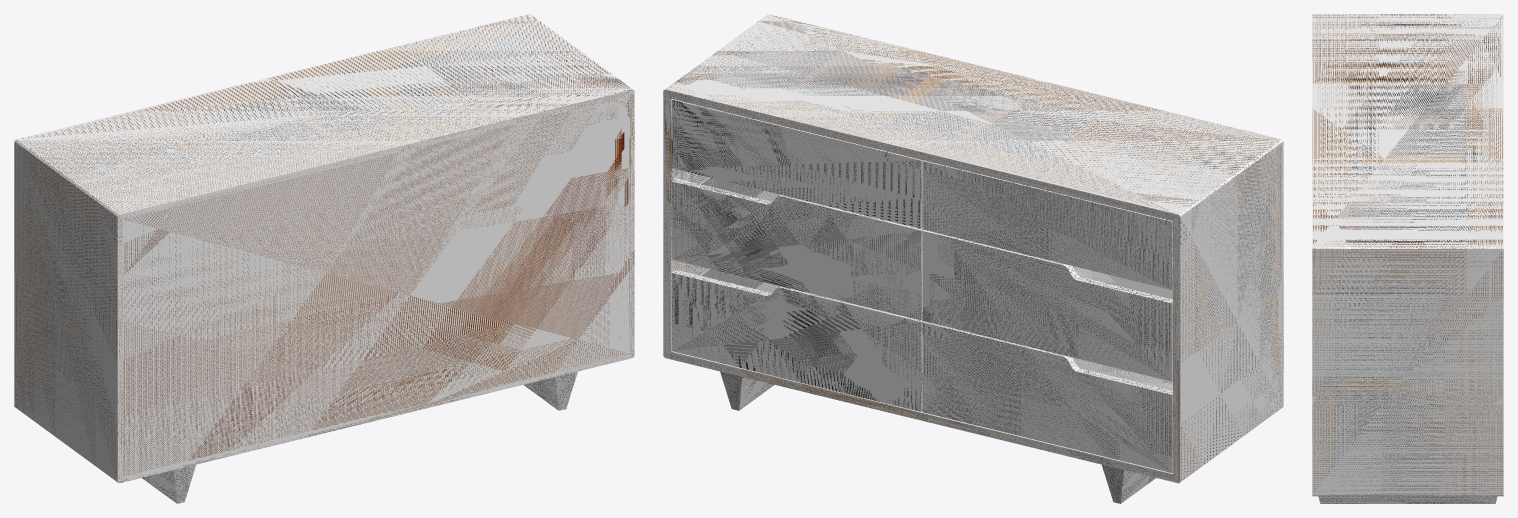
The picture shows the model from 3 angles, left to right: view 1: azimuth 30°, elevation 25°; view 2: azimuth 150°, elevation 25°; view 3: azimuth 270°, elevation 25°; orthographic projection. The views are drawn at different scales.
Visible parts, largest first — view 1: mesh9_mesh9-geometry, mesh12_mesh12-geometry, mesh10_mesh10-geometry, mesh16_mesh16-geometry, mesh13_mesh13-geometry, mesh11_mesh11-geometry; view 2: mesh12_mesh12-geometry, mesh8_mesh8-geometry, mesh2_mesh2-geometry, mesh10_mesh10-geometry, mesh3_mesh3-geometry, mesh5_mesh5-geometry, mesh16_mesh16-geometry, mesh11_mesh11-geometry, mesh13_mesh13-geometry, mesh1_mesh1-geometry, mesh7_mesh7-geometry; view 3: mesh11_mesh11-geometry, mesh12_mesh12-geometry, mesh13_mesh13-geometry, mesh16_mesh16-geometry.
Boxes of the visible parts, left/top/right/bottom form: mesh9_mesh9-geometry: left=123, top=96, right=628, bottom=476; mesh12_mesh12-geometry: left=15, top=14, right=633, bottom=219; mesh10_mesh10-geometry: left=14, top=140, right=122, bottom=482; mesh16_mesh16-geometry: left=118, top=353, right=633, bottom=483; mesh13_mesh13-geometry: left=142, top=371, right=577, bottom=503; mesh11_mesh11-geometry: left=629, top=90, right=634, bottom=356; mesh12_mesh12-geometry: left=664, top=14, right=1282, bottom=220; mesh8_mesh8-geometry: left=671, top=178, right=923, bottom=411; mesh2_mesh2-geometry: left=922, top=230, right=1172, bottom=472; mesh10_mesh10-geometry: left=1173, top=140, right=1283, bottom=482; mesh3_mesh3-geometry: left=671, top=99, right=922, bottom=228; mesh5_mesh5-geometry: left=922, top=160, right=1172, bottom=289; mesh16_mesh16-geometry: left=664, top=351, right=1179, bottom=483; mesh11_mesh11-geometry: left=663, top=90, right=706, bottom=356; mesh13_mesh13-geometry: left=720, top=371, right=1155, bottom=503; mesh1_mesh1-geometry: left=1072, top=266, right=1172, bottom=390; mesh7_mesh7-geometry: left=698, top=177, right=779, bottom=292; mesh11_mesh11-geometry: left=1312, top=248, right=1503, bottom=495; mesh12_mesh12-geometry: left=1312, top=14, right=1503, bottom=247; mesh13_mesh13-geometry: left=1318, top=496, right=1497, bottom=503; mesh16_mesh16-geometry: left=1312, top=495, right=1503, bottom=496.
Size of the model in its own units: 0.8327 by 0.4732 by 0.2875.
